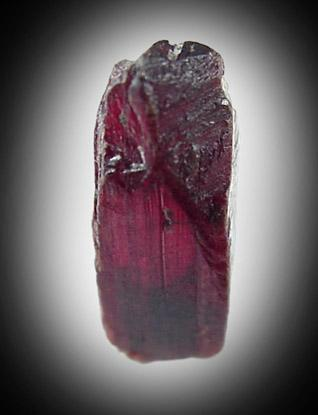tantalite: (93, 40, 238, 362)
